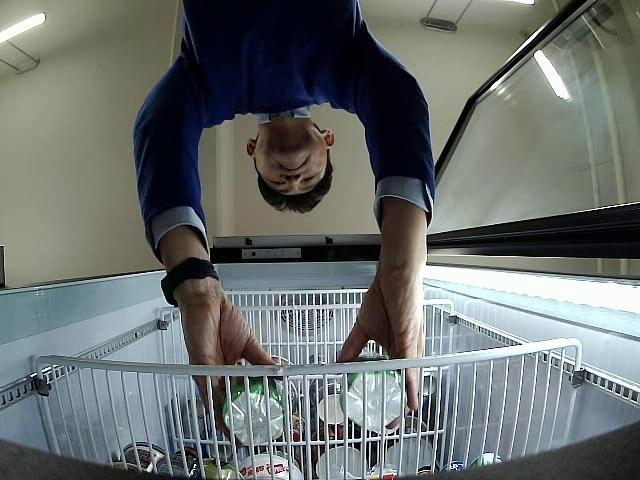18_trevi: (341, 354, 408, 432), (222, 377, 284, 444)
